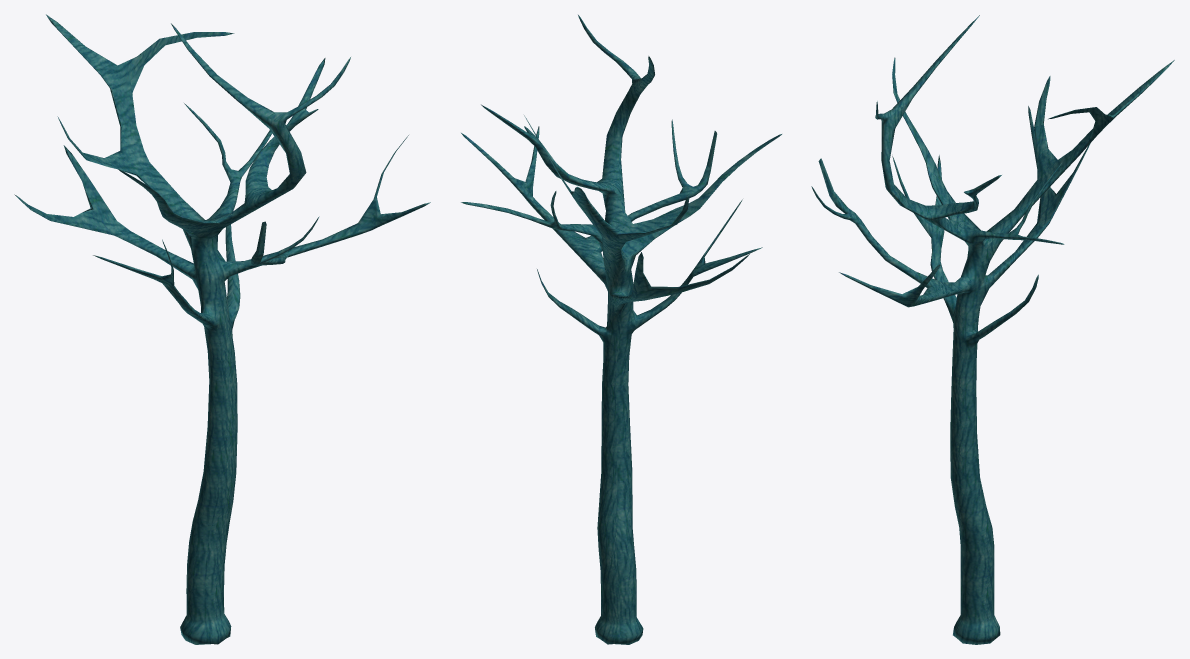
The model's file is Arbol.glb.
3 renders of one model, left to right at view 1: azimuth 30°, elevation 25°; view 2: azimuth 150°, elevation 25°; view 3: azimuth 270°, elevation 25°, orthographic. The views are drawn at different scales.
Visible parts, largest first — view 1: Arbol; view 2: Arbol; view 3: Arbol.
Boxes of the visible parts, x1,y1,x2,y2 form: Arbol: [14, 14, 430, 644]; Arbol: [461, 15, 781, 644]; Arbol: [811, 15, 1174, 644].
Size of the model in its own units: 8.02 by 13.62 by 7.4.
Materials: 1 (1 with a texture image).
